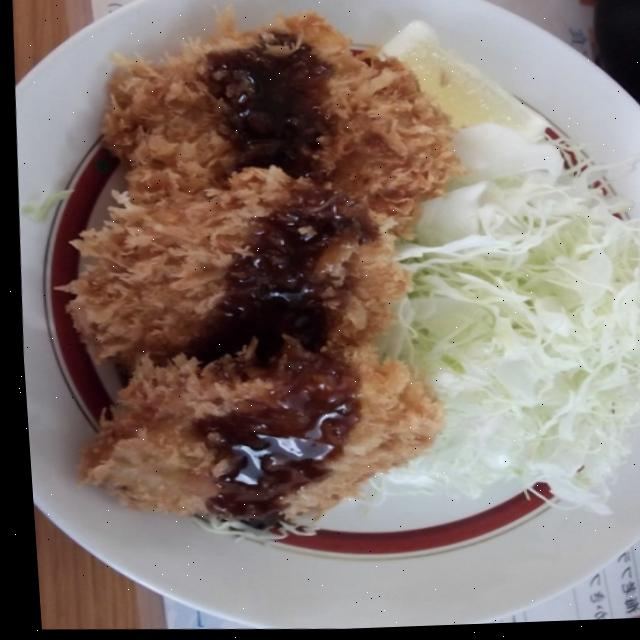牛肉菜式: (22, 0, 524, 574)
